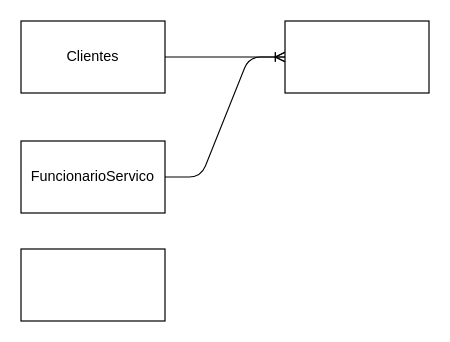
This 450x342 diagram has some shape labels left out. The centre of each missing label's shape, as x and y in pixels:
"Funcionarios" goes at (x=92, y=284).
"Servicos" goes at (x=356, y=56).
